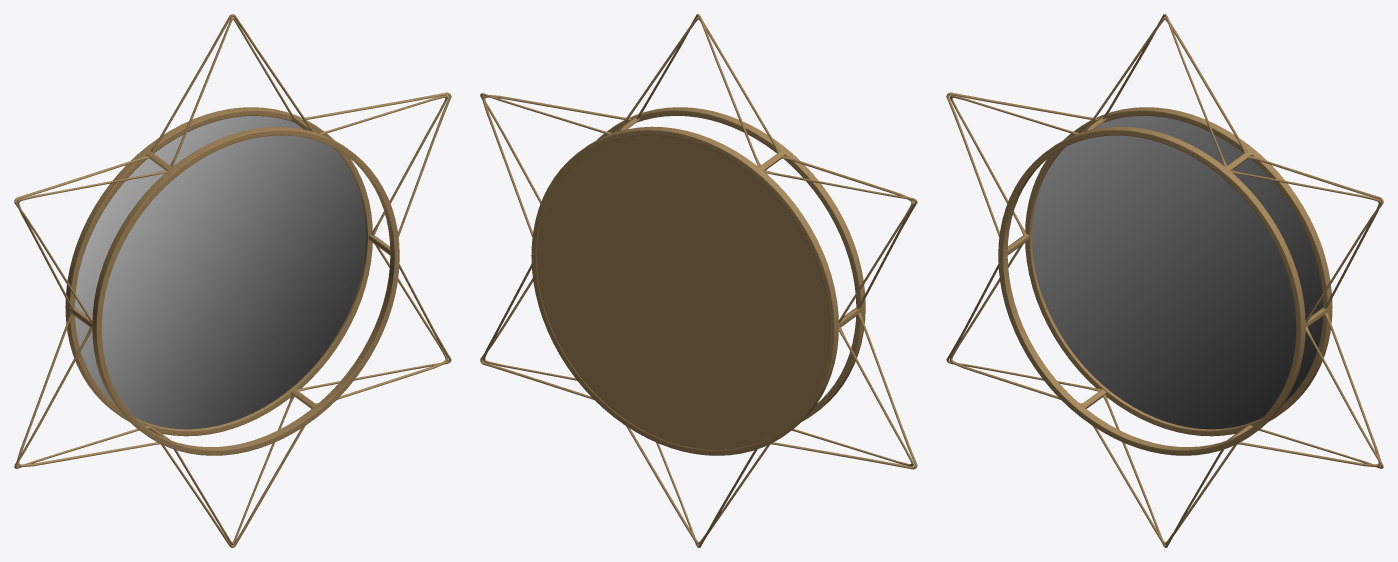
The model's file is mirror_B073WHB435.glb.
The picture shows the model from 3 angles, left to right: view 1: azimuth 30°, elevation 25°; view 2: azimuth 150°, elevation 25°; view 3: azimuth 330°, elevation 25°; orthographic projection.
Visible parts, largest first — view 1: RootNode; view 2: RootNode; view 3: RootNode.
Part boxes in pixels (box(x1,y1,x2,y2)): RootNode: box(14, 14, 451, 547); RootNode: box(480, 14, 917, 547); RootNode: box(946, 14, 1383, 547).
Size of the model in its own units: 0.4983 by 0.5815 by 0.0622.
Materials: 1 (1 with a texture image).
